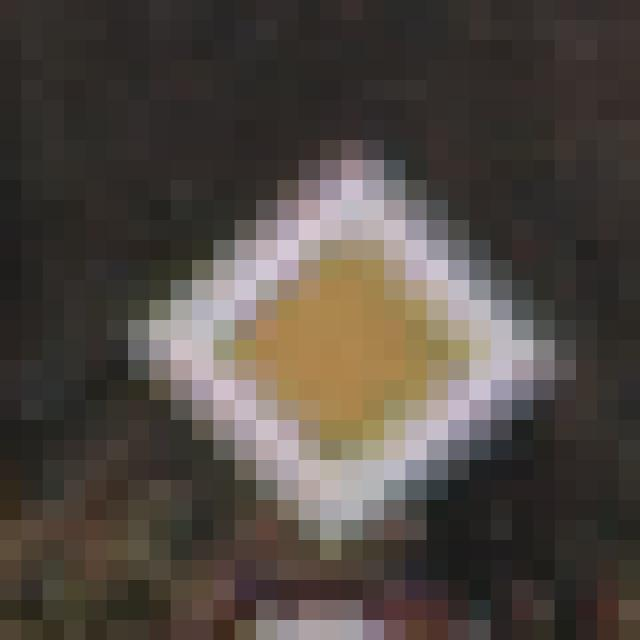Main Road: (108, 121, 534, 541)
